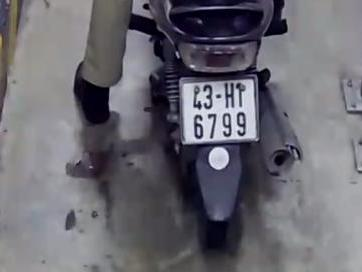num_plate: (175, 76, 262, 147)
